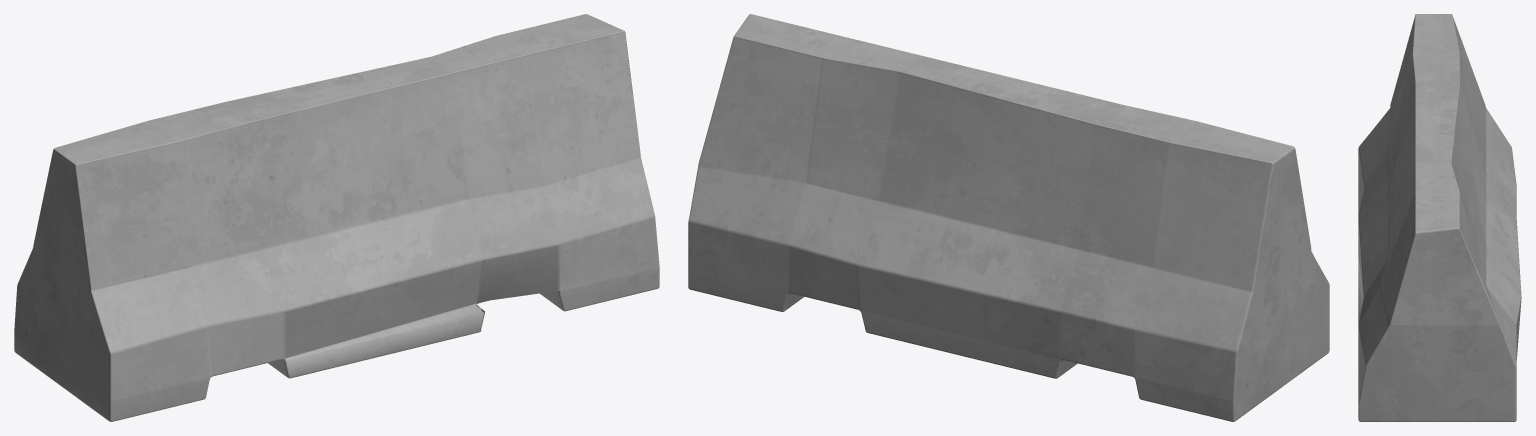
The model's file is Jersey_Barrier_deformed.fbx.
3 renders of one model, left to right at view 1: azimuth 30°, elevation 25°; view 2: azimuth 150°, elevation 25°; view 3: azimuth 270°, elevation 25°, orthographic. The views are drawn at different scales.
Visible parts, largest first — view 1: Jersey_Barrier1; view 2: Jersey_Barrier1; view 3: Jersey_Barrier1.
Boxes of the visible parts, x1=… form: Jersey_Barrier1: x1=14, y1=14, x2=659, y2=421; Jersey_Barrier1: x1=688, y1=14, x2=1329, y2=421; Jersey_Barrier1: x1=1358, y1=14, x2=1521, y2=421.
Size of the model in its own units: 2 by 0.81 by 0.6287.
